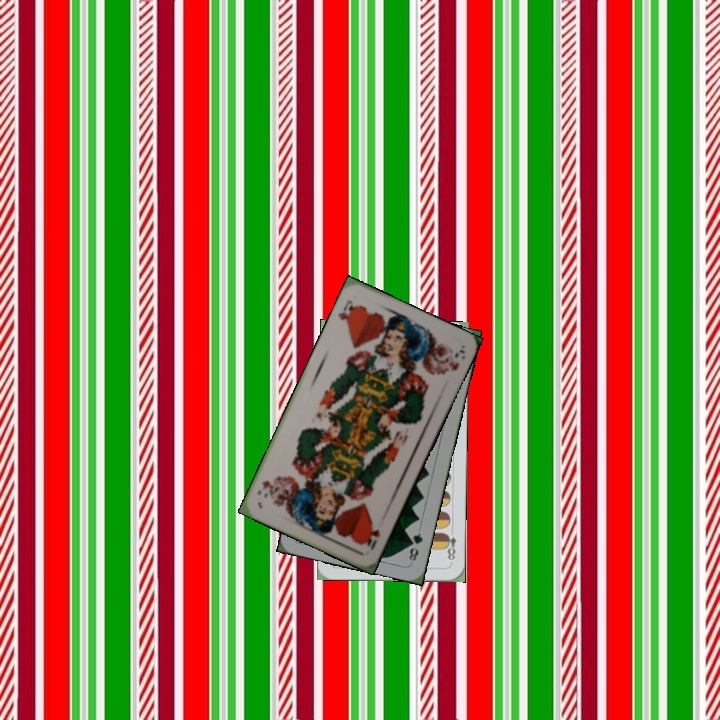E8: (441, 525, 458, 565)
G8: (405, 529, 425, 564)
HO: (334, 296, 359, 328), (360, 521, 383, 553)
